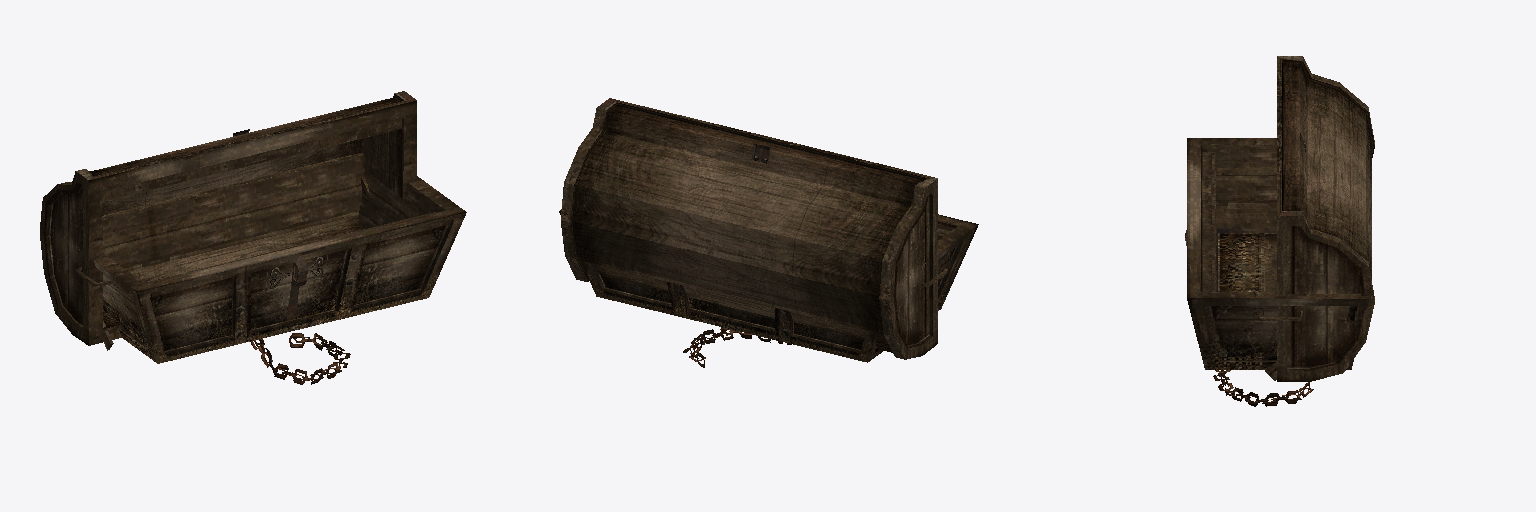
3 views of the same model, side by side, from view 1: azimuth 30°, elevation 25°; view 2: azimuth 150°, elevation 25°; view 3: azimuth 270°, elevation 25° (orthographic).
Parts seen in each view (by area): view 1: mesh0; view 2: mesh0; view 3: mesh0.
Boxes of the visible parts, <box> form: mesh0: <box>40,91,466,384</box>; mesh0: <box>559,98,978,367</box>; mesh0: <box>1185,56,1374,406</box>.
Size of the model in its own units: 1.4 by 0.9259 by 0.6705.
1 materials, 1 textured.